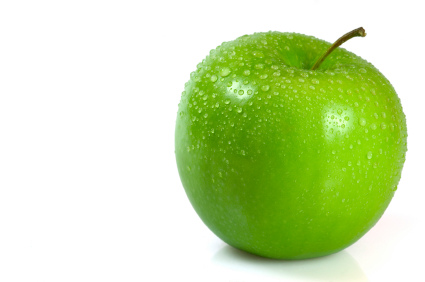apple: (175, 26, 407, 261)
